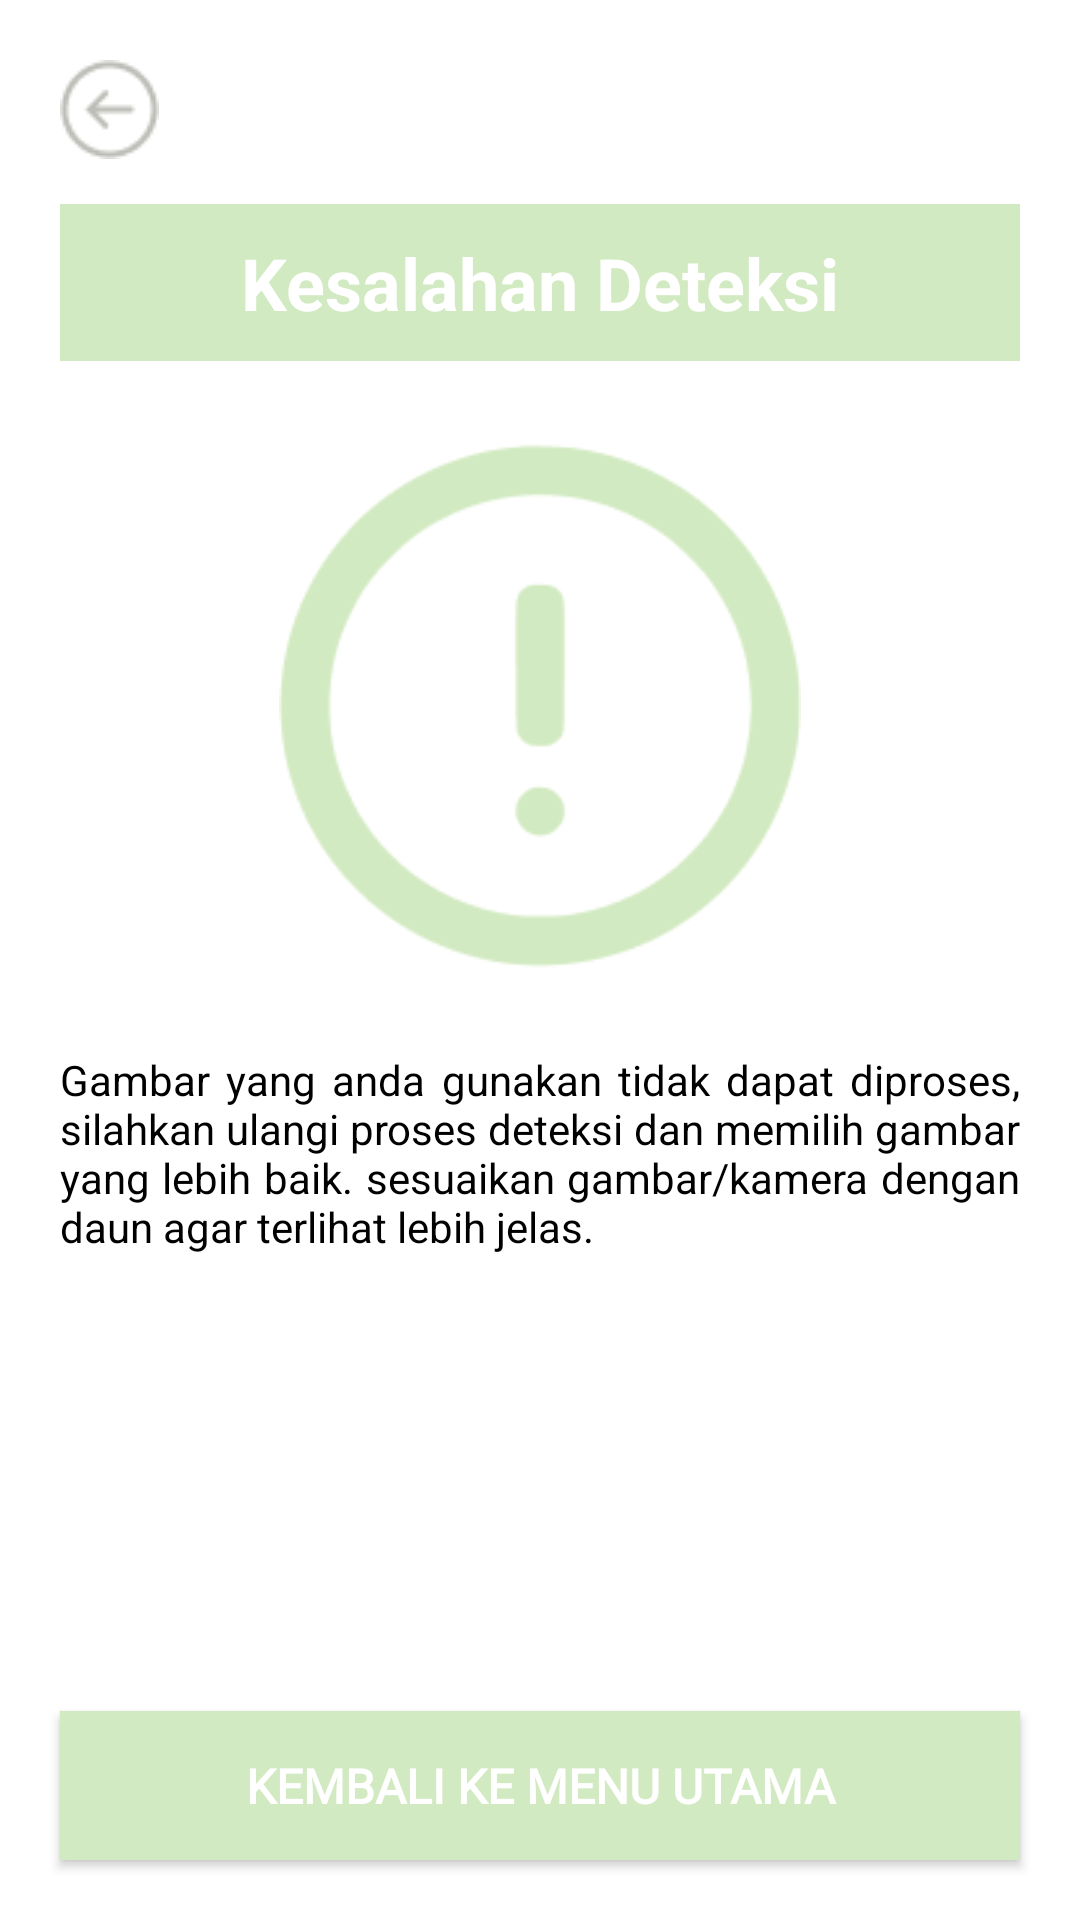

Named icons in this screenshot (1080 x 1920) and their bounding boxes, [x1, y1, x2, y2]:
back: [60, 60, 159, 159]
